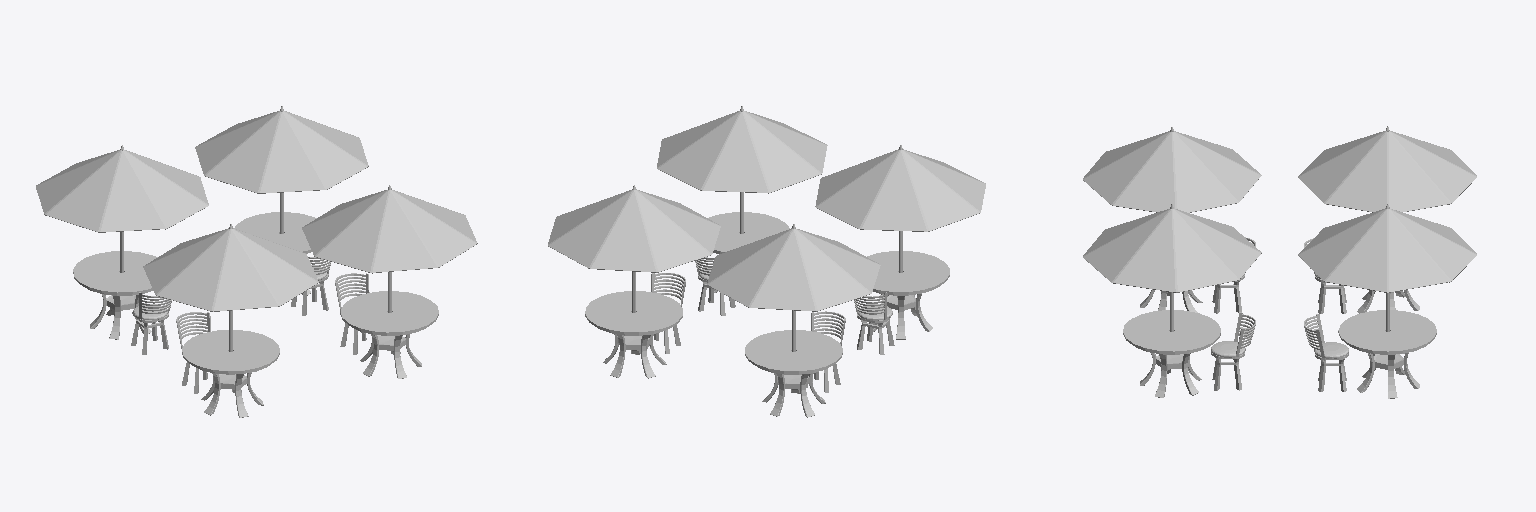
The model's file is mesa_sillas.obj.
The picture shows the model from 3 angles: view 1: azimuth 30°, elevation 25°; view 2: azimuth 150°, elevation 25°; view 3: azimuth 270°, elevation 25°; orthographic projection.
Parts seen in each view (by area): view 1: sombrillas008, sombrillas011, sombrillas009, sombrillas010, sombrillas, sombrillas003, sombrillas001, sombrillas004, sombrillas002, sombrillas005, sombrillas007, sombrillas006; view 2: sombrillas009, sombrillas010, sombrillas008, sombrillas011, sombrillas001, sombrillas004, sombrillas003, sombrillas, sombrillas005, sombrillas006, sombrillas002, sombrillas007; view 3: sombrillas009, sombrillas011, sombrillas010, sombrillas008, sombrillas004, sombrillas, sombrillas007, sombrillas006.
Part boxes in pixels (bbox=[...]): sombrillas008: bbox=[143, 224, 318, 351]; sombrillas011: bbox=[302, 185, 477, 312]; sombrillas009: bbox=[195, 106, 368, 233]; sombrillas010: bbox=[36, 145, 208, 272]; sombrillas: bbox=[340, 291, 438, 378]; sombrillas003: bbox=[182, 330, 279, 417]; sombrillas001: bbox=[73, 251, 157, 339]; sombrillas004: bbox=[234, 212, 316, 295]; sombrillas002: bbox=[131, 292, 171, 354]; sombrillas005: bbox=[176, 312, 210, 393]; sombrillas007: bbox=[335, 273, 369, 354]; sombrillas006: bbox=[291, 257, 330, 315]; sombrillas009: bbox=[548, 185, 720, 312]; sombrillas010: bbox=[707, 224, 880, 351]; sombrillas008: bbox=[815, 145, 985, 272]; sombrillas011: bbox=[657, 106, 827, 233]; sombrillas001: bbox=[745, 330, 842, 417]; sombrillas004: bbox=[585, 291, 682, 378]; sombrillas003: bbox=[867, 251, 949, 339]; sombrillas: bbox=[708, 212, 789, 292]; sombrillas005: bbox=[854, 292, 894, 354]; sombrillas006: bbox=[647, 273, 685, 353]; sombrillas002: bbox=[806, 311, 845, 392]; sombrillas007: bbox=[695, 257, 735, 315]; sombrillas009: bbox=[1298, 204, 1476, 331]; sombrillas011: bbox=[1083, 204, 1261, 331]; sombrillas010: bbox=[1298, 126, 1476, 212]; sombrillas008: bbox=[1083, 127, 1261, 212]; sombrillas004: bbox=[1338, 310, 1436, 398]; sombrillas: bbox=[1123, 310, 1220, 397]; sombrillas007: bbox=[1211, 312, 1255, 390]; sombrillas006: bbox=[1304, 314, 1348, 391].
Size of the model in its own units: 57.86 by 31.91 by 62.85.